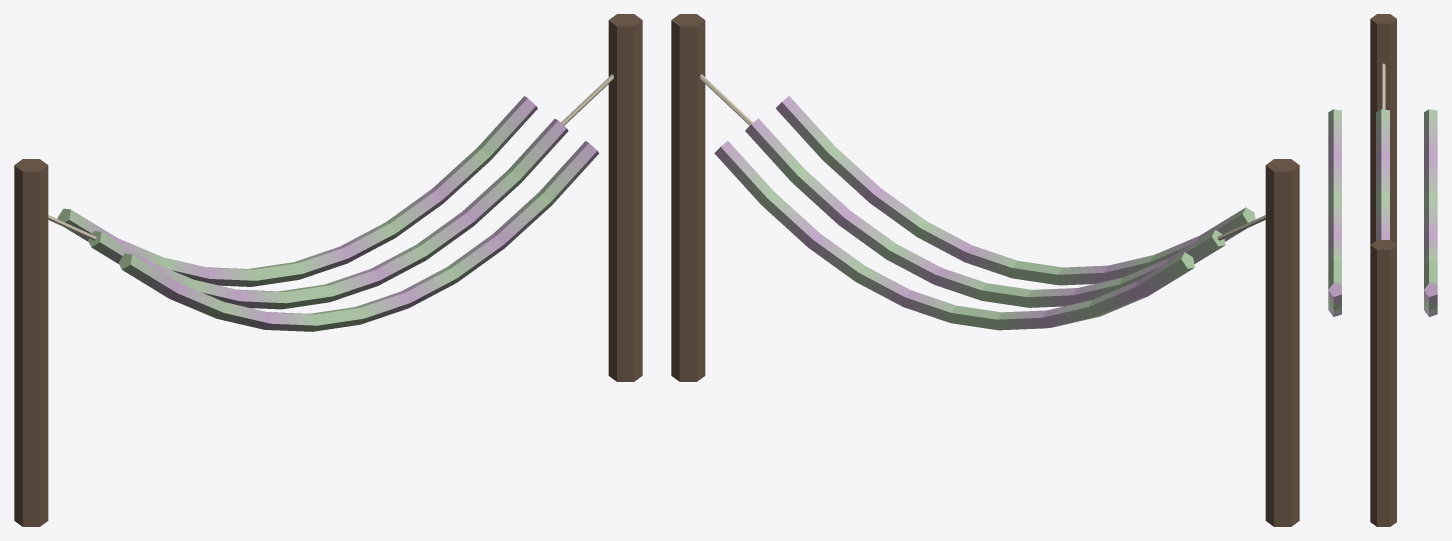
Rendered from Hammock.fbx.
The picture shows the model from 3 angles, left to right: view 1: azimuth 30°, elevation 25°; view 2: azimuth 150°, elevation 25°; view 3: azimuth 270°, elevation 25°; orthographic projection. The views are drawn at different scales.
Visible parts, largest first — view 1: Prop_Hammock; view 2: Prop_Hammock; view 3: Prop_Hammock.
Part boxes in pixels (x1,y1,x2,y2): Prop_Hammock: (14,14,642,526); Prop_Hammock: (671,14,1299,526); Prop_Hammock: (1328,14,1437,526).
Bounding box in the file's own units: 2.92 × 1.6 × 0.5724.
